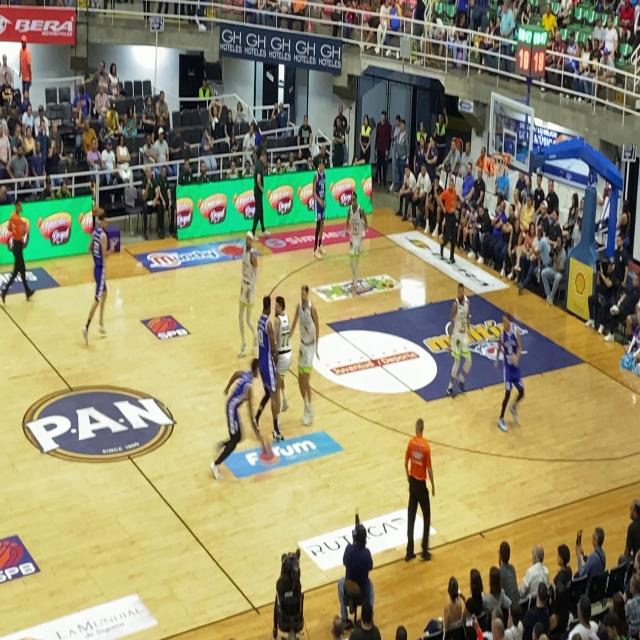referee: (397, 412, 438, 576), (3, 187, 36, 326), (440, 172, 461, 280)
team1: (289, 276, 325, 431), (236, 222, 264, 360), (445, 279, 474, 408), (339, 188, 366, 298), (274, 285, 292, 421)
team2: (216, 352, 266, 484), (491, 307, 532, 439), (81, 206, 113, 354), (256, 289, 282, 450), (308, 153, 330, 266)
ubasket: (489, 150, 509, 180)
